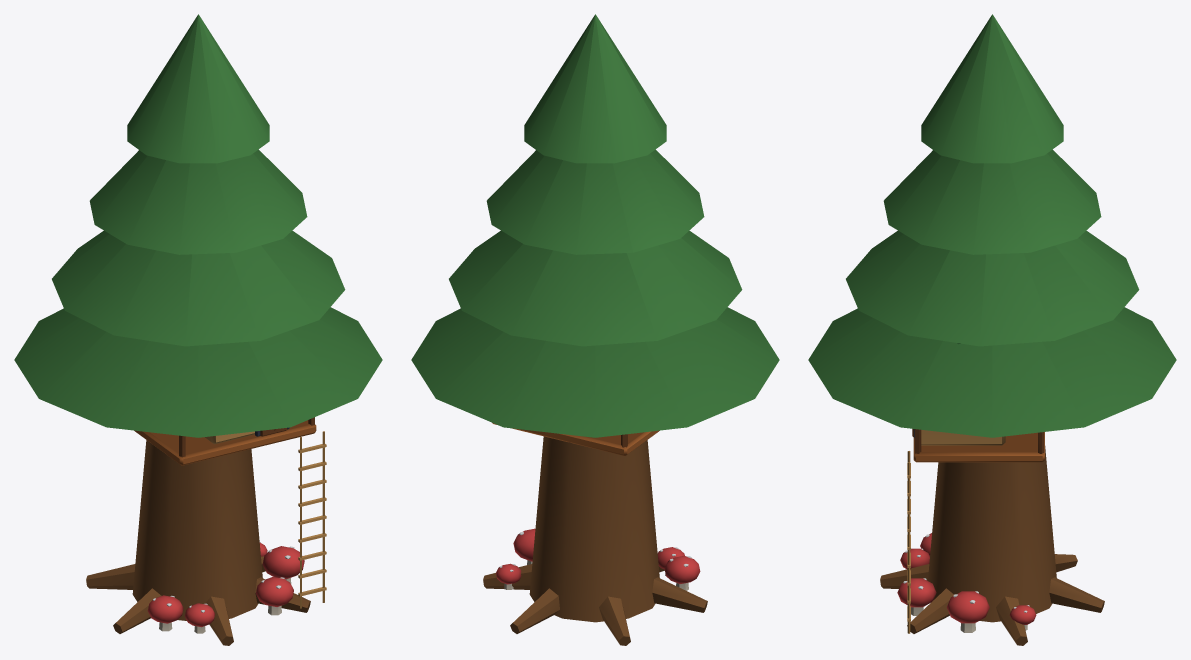
Rendered from lm_forst.glb.
3 views of the same model, side by side, from view 1: azimuth 30°, elevation 25°; view 2: azimuth 150°, elevation 25°; view 3: azimuth 270°, elevation 25° (orthographic).
Visible parts, largest first — view 1: body_crown, body; view 2: body_crown, body; view 3: body_crown, body.
Part boxes in pixels (x1=…): body_crown: x1=14, y1=14, x2=382, y2=437; body: x1=86, y1=417, x2=326, y2=645; body_crown: x1=411, y1=14, x2=779, y2=437; body: x1=483, y1=422, x2=707, y2=645; body_crown: x1=808, y1=14, x2=1176, y2=437; body: x1=880, y1=343, x2=1104, y2=645.
Size of the model in its own units: 8.4 by 14.74 by 8.4.
